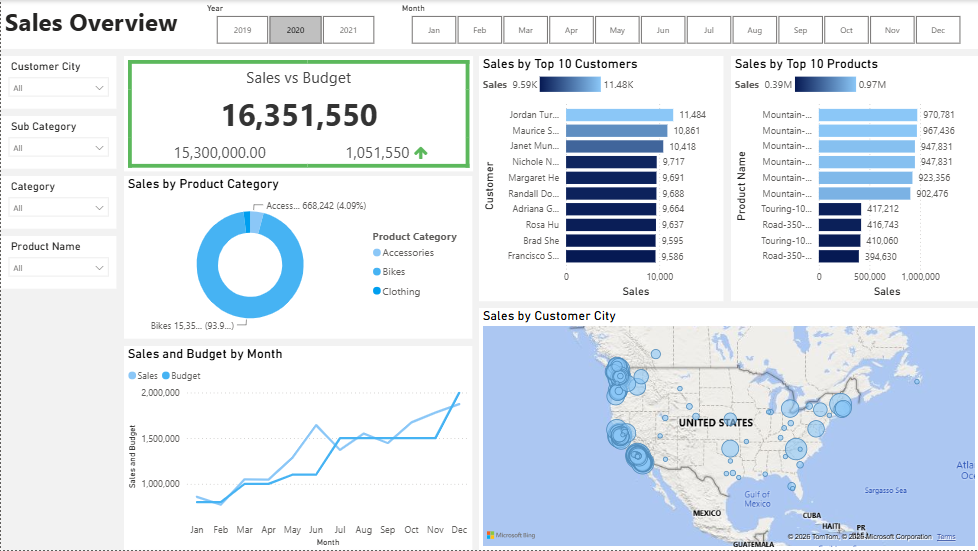

The dashboard page shown, as its layout file describes it:
{"tool":"powerbi","page":{"name":"Sales Overview","canvas":[1280,720],"ordinal":0},"visuals":[{"type":"textbox","box":[0,0,1280,64],"z":0},{"type":"slicer","fields":{"Values":["DIM_Calendar.Year"]},"box":[256,0,256,64],"z":1000},{"type":"slicer","fields":{"Values":["DIM_Calendar.MonthShort"]},"box":[512,0,768,64],"z":2000},{"type":"slicer","fields":{"Values":["DIM_Customers.Customer City"]},"box":[0,73,150.5,69.3],"z":3000},{"type":"slicer","fields":{"Values":["DIM_Products.Product Category"]},"box":[0,229.9,150.5,69.3],"z":4000},{"type":"slicer","fields":{"Values":["DIM_Products.Product Name"]},"box":[0,308.4,150.5,69.3],"z":5000},{"type":"slicer","fields":{"Values":["DIM_Products.Sub Category"]},"box":[0,151.4,150.5,69.3],"z":6000},{"type":"barChart","title":"Sales by Top 10 Products","fields":{"Category":["DIM_Products.Product Name"],"Y":["Analysis Metrics.Sales"]},"box":[955.2,73,324.8,321.1],"z":7000},{"type":"lineChart","fields":{"Category":["DIM_Calendar.MonthShort"],"Y":["Analysis Metrics.Sales","Analysis Metrics.Budget"]},"box":[160.7,452.8,456.3,267.2],"z":8000},{"type":"barChart","title":"Sales by Top 10 Customers","fields":{"Category":["DIM_Customers.Full Name"],"Y":["Analysis Metrics.Sales"]},"box":[625.9,73,320.2,321.1],"z":9000},{"type":"donutChart","fields":{"Series":["DIM_Products.Product Category"],"Y":["Analysis Metrics.Sales"]},"box":[160.6,229.9,456.2,213.5],"z":10000},{"type":"map","fields":{"Category":["DIM_Customers.Customer City"],"Size":["Analysis Metrics.Sales"]},"box":[625.9,403.3,654.1,316.6],"z":12000},{"type":"BBED0A4D4D8D44CE93CF2DAFADEE466C","fields":{"actual":["Analysis Metrics.Sales"],"target2":["Analysis Metrics.Sales / Budget"],"target1":["Analysis Metrics.Budget"]},"box":[160.5,73.4,456.6,151.3],"z":13001}]}

Visuals, with their boxes in screenshot pixels (x1, y1, x2, y2), scaled from the page's 1280x720 canvas onto the 978x551 screenshot:
textbox: x1=0, y1=0, x2=977, y2=49
slicer - DIM_Calendar.Year: x1=196, y1=0, x2=391, y2=49
slicer - DIM_Calendar.MonthShort: x1=391, y1=0, x2=977, y2=49
slicer - DIM_Customers.Customer City: x1=0, y1=56, x2=115, y2=109
slicer - DIM_Products.Product Category: x1=0, y1=176, x2=115, y2=229
slicer - DIM_Products.Product Name: x1=0, y1=236, x2=115, y2=289
slicer - DIM_Products.Sub Category: x1=0, y1=116, x2=115, y2=169
"Sales by Top 10 Products" barChart: x1=730, y1=56, x2=977, y2=302
lineChart - DIM_Calendar.MonthShort x Analysis Metrics.Sales: x1=123, y1=347, x2=471, y2=550
"Sales by Top 10 Customers" barChart: x1=478, y1=56, x2=723, y2=302
donutChart - DIM_Products.Product Category x Analysis Metrics.Sales: x1=123, y1=176, x2=471, y2=339
map - DIM_Customers.Customer City x Analysis Metrics.Sales: x1=478, y1=309, x2=977, y2=550
BBED0A4D4D8D44CE93CF2DAFADEE466C - Analysis Metrics.Sales x Analysis Metrics.Sales / Budget: x1=123, y1=56, x2=472, y2=172
